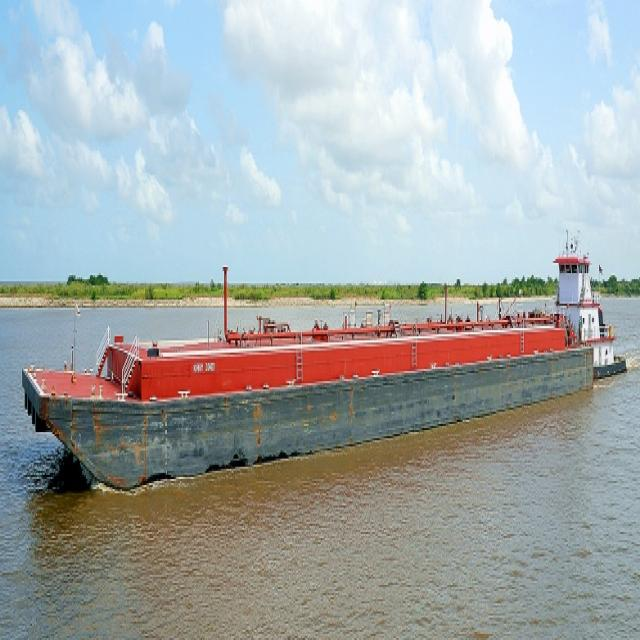tugboat: (523, 223, 632, 407)
